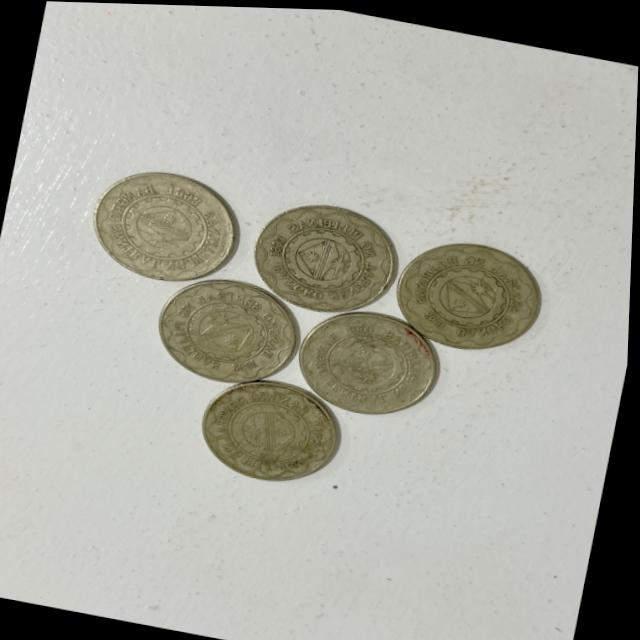5_Old_Back: (245, 189, 414, 323), (91, 161, 258, 295), (393, 229, 554, 358), (287, 293, 444, 424), (197, 366, 354, 491), (158, 272, 310, 393)
